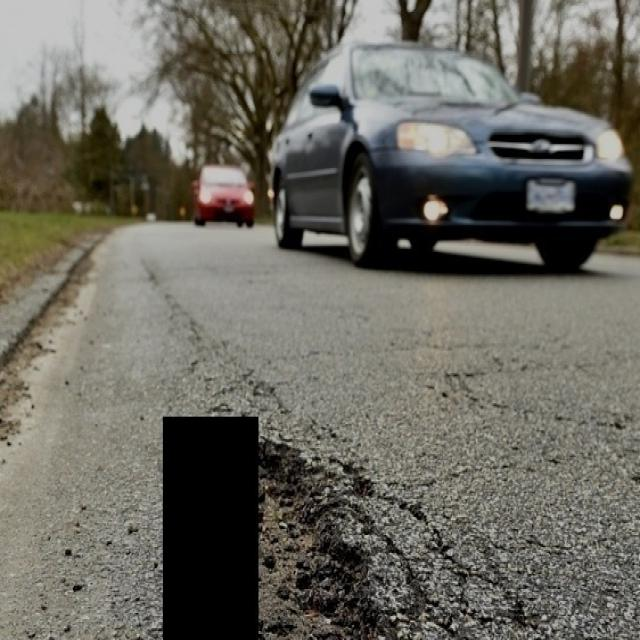road-pothole: (261, 444, 381, 639)
